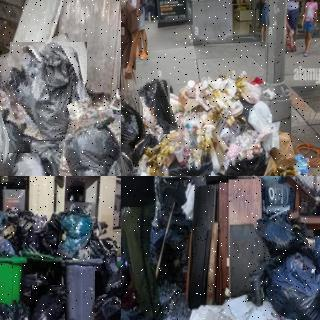Garbage: (2, 37, 95, 158), (59, 107, 121, 176), (263, 253, 320, 320), (0, 71, 34, 176), (255, 210, 307, 257), (3, 140, 60, 176), (139, 78, 174, 135), (59, 212, 93, 259), (91, 269, 121, 320), (28, 283, 67, 320), (121, 93, 144, 145), (0, 300, 17, 320)
